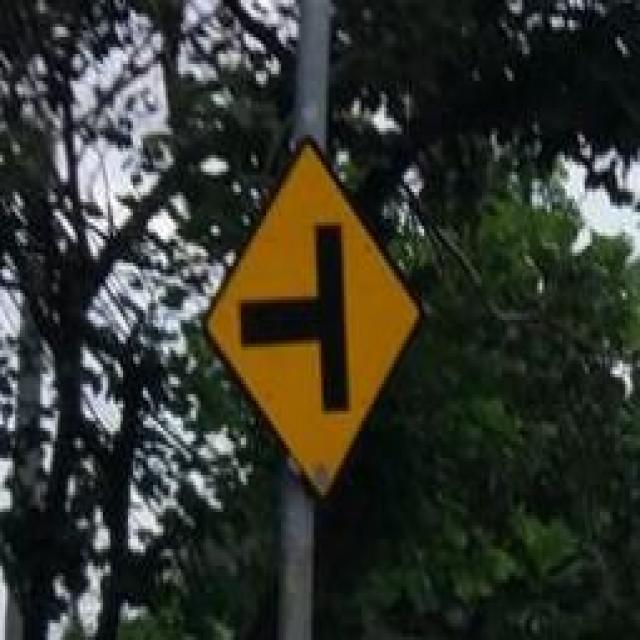traffic sign: (213, 155, 422, 495)
